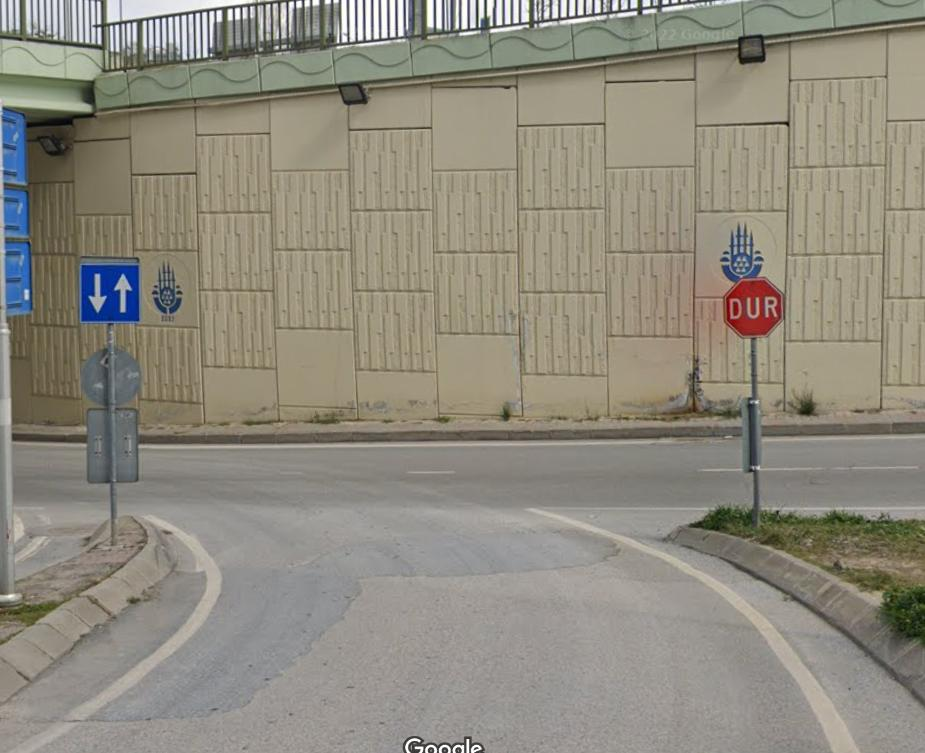stop: (719, 277, 786, 340)
